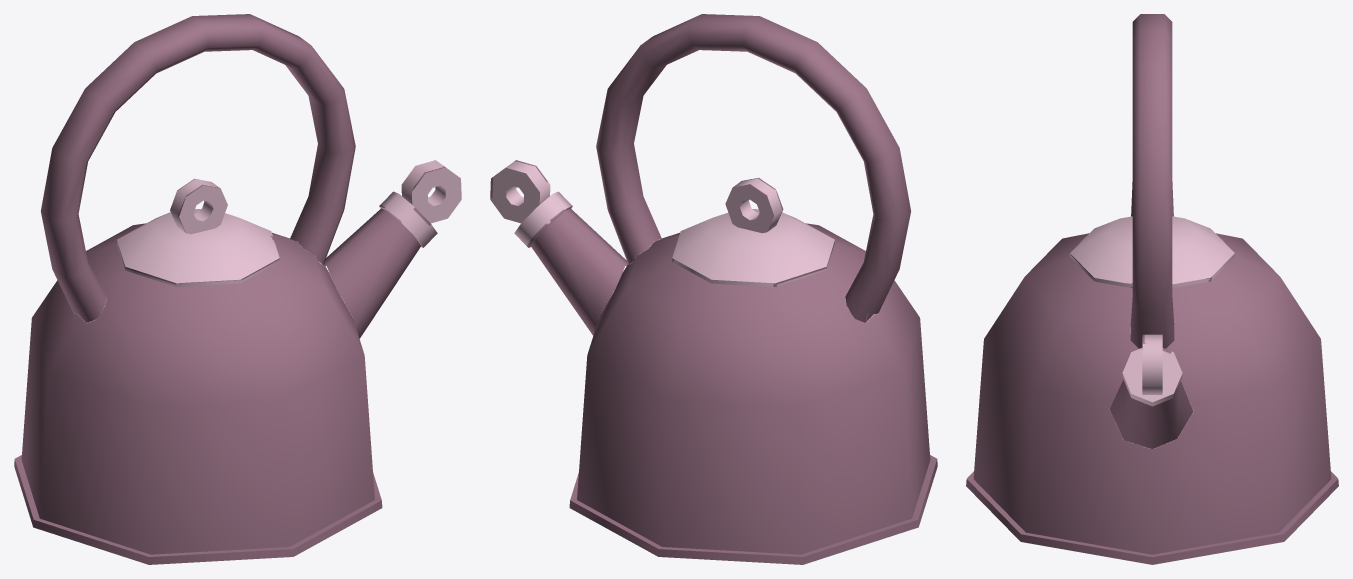
The model's file is kettle.glb.
3 renders of one model, left to right at view 1: azimuth 30°, elevation 25°; view 2: azimuth 150°, elevation 25°; view 3: azimuth 270°, elevation 25°, orthographic. The views are drawn at different scales.
Parts seen in each view (by area): view 1: misc_kettle_Cylinder.017, misc_kettle_cover_Cylinder.018, misc_kettle_nozzle_Cylinder.019; view 2: misc_kettle_Cylinder.017, misc_kettle_cover_Cylinder.018, misc_kettle_nozzle_Cylinder.019; view 3: misc_kettle_Cylinder.017, misc_kettle_cover_Cylinder.018, misc_kettle_nozzle_Cylinder.019.
Boxes of the visible parts, x1=… form: misc_kettle_Cylinder.017: x1=14, y1=14, x2=420, y2=564; misc_kettle_cover_Cylinder.018: x1=117, y1=178, x2=279, y2=286; misc_kettle_nozzle_Cylinder.019: x1=379, y1=160, x2=461, y2=247; misc_kettle_Cylinder.017: x1=531, y1=14, x2=937, y2=564; misc_kettle_cover_Cylinder.018: x1=672, y1=177, x2=834, y2=286; misc_kettle_nozzle_Cylinder.019: x1=490, y1=160, x2=572, y2=247; misc_kettle_Cylinder.017: x1=966, y1=14, x2=1338, y2=564; misc_kettle_cover_Cylinder.018: x1=1070, y1=216, x2=1234, y2=288; misc_kettle_nozzle_Cylinder.019: x1=1122, y1=334, x2=1182, y2=406.
Size of the model in its own units: 6.02 by 6.34 by 4.69.
Materials: 1 (1 with a texture image).
